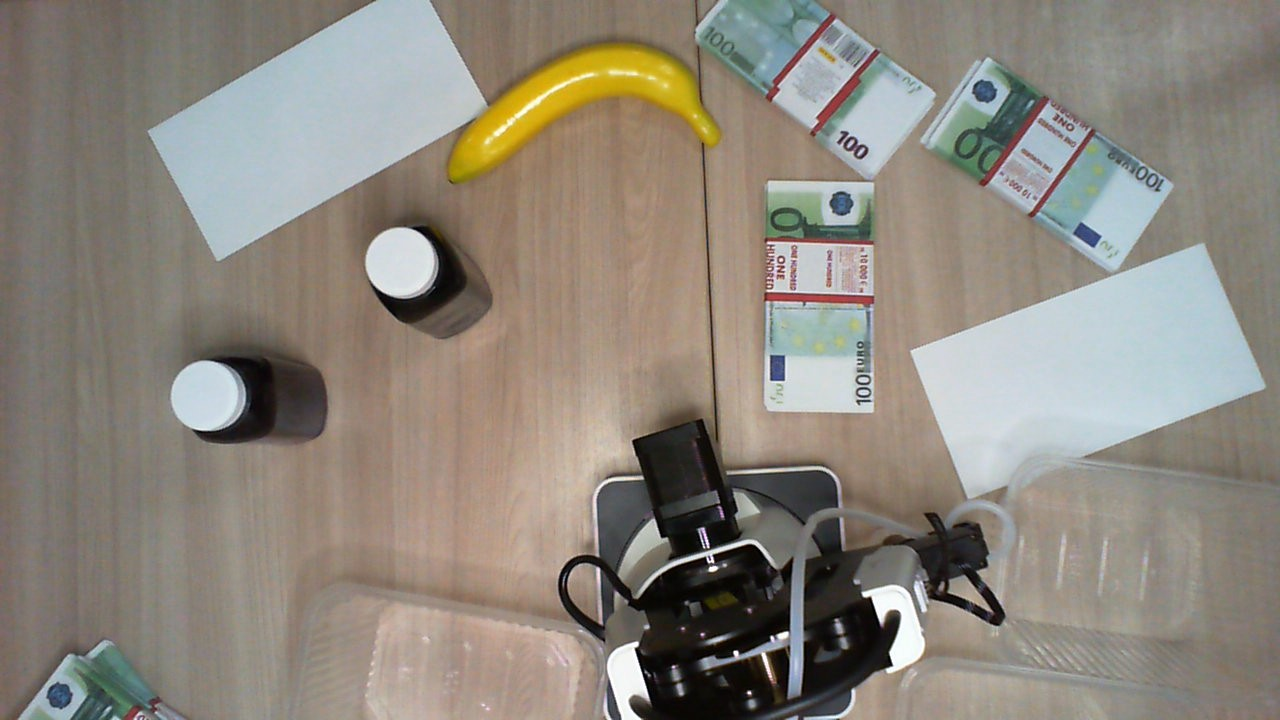banana: (446, 44, 723, 197)
bottle: (158, 345, 283, 450), (365, 215, 468, 325)
convert: (909, 238, 1266, 515), (163, 1, 493, 261)
money: (924, 55, 1172, 271), (695, 3, 933, 172), (756, 176, 877, 429), (16, 638, 195, 720)
